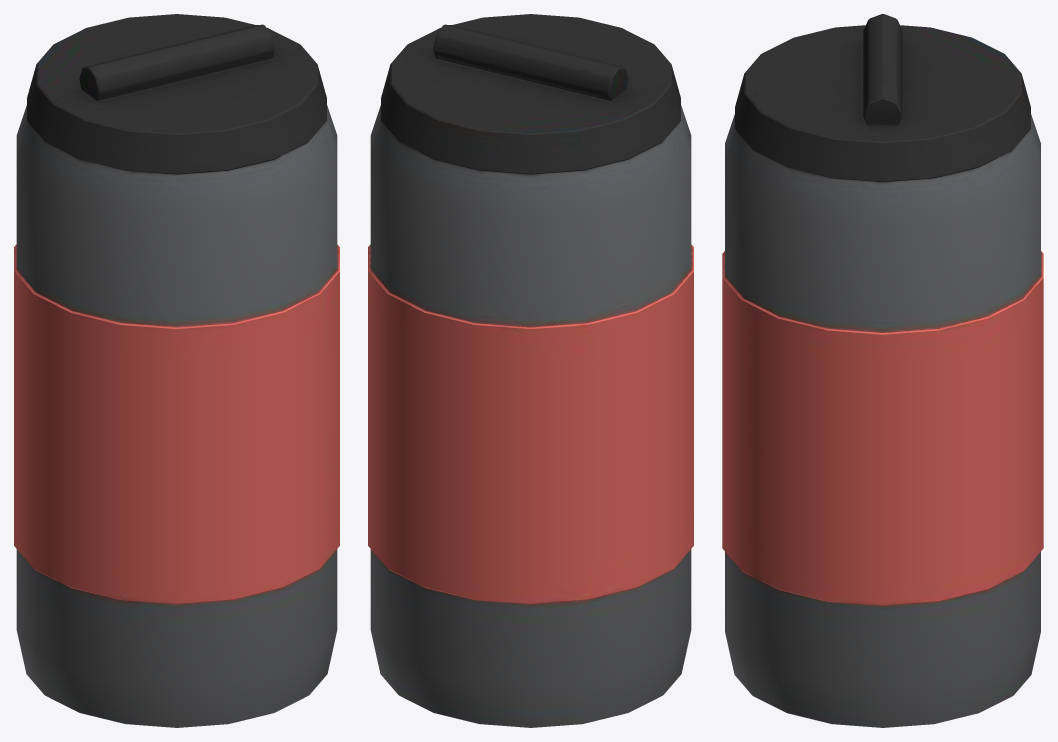
Rendered from IT_can_beans.glb.
3 views of the same model, side by side, from view 1: azimuth 30°, elevation 25°; view 2: azimuth 150°, elevation 25°; view 3: azimuth 270°, elevation 25° (orthographic).
Visible parts, largest first — view 1: IT_can_beans; view 2: IT_can_beans; view 3: IT_can_beans.
Part boxes in pixels (<box>): IT_can_beans: <box>14,14,339,727</box>; IT_can_beans: <box>368,14,693,727</box>; IT_can_beans: <box>722,14,1043,727</box>.
Size of the model in its own units: 0.325 by 0.6695 by 0.3201.
1 material, 1 textured.
